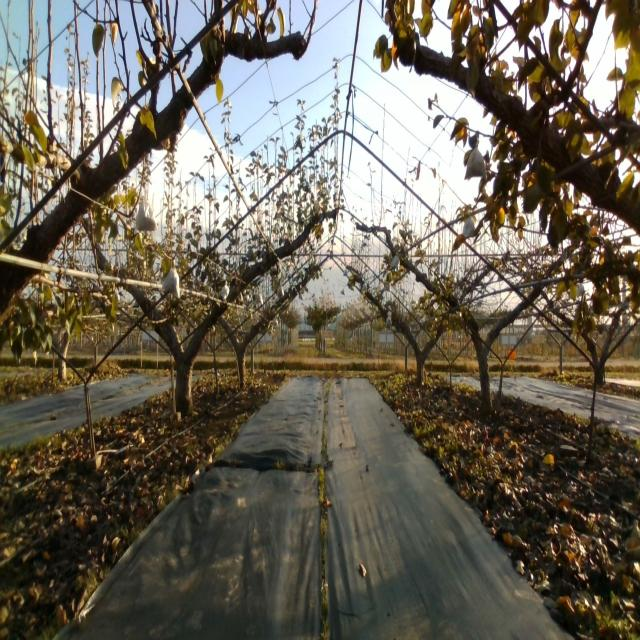pearbags: (464, 137, 487, 181), (133, 198, 157, 236), (162, 266, 180, 300), (462, 217, 475, 240)
